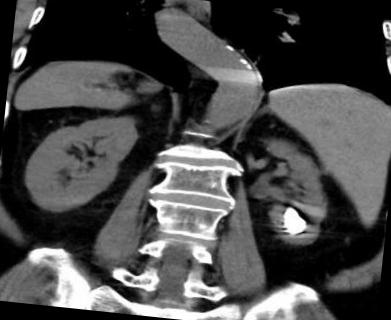Tas_Var: (270, 200, 316, 238)
